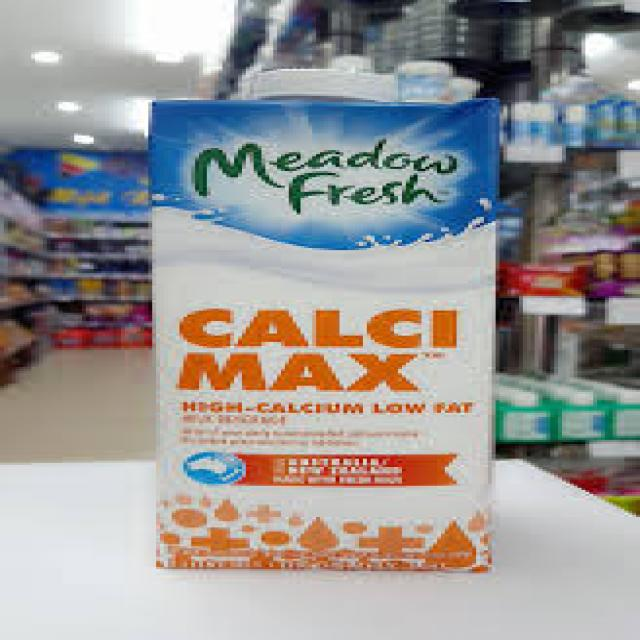non_white_jug: (119, 42, 513, 584)
